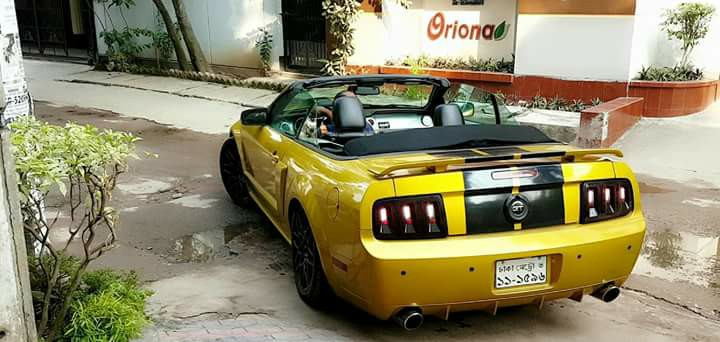registration_plate: (494, 255, 547, 289)
